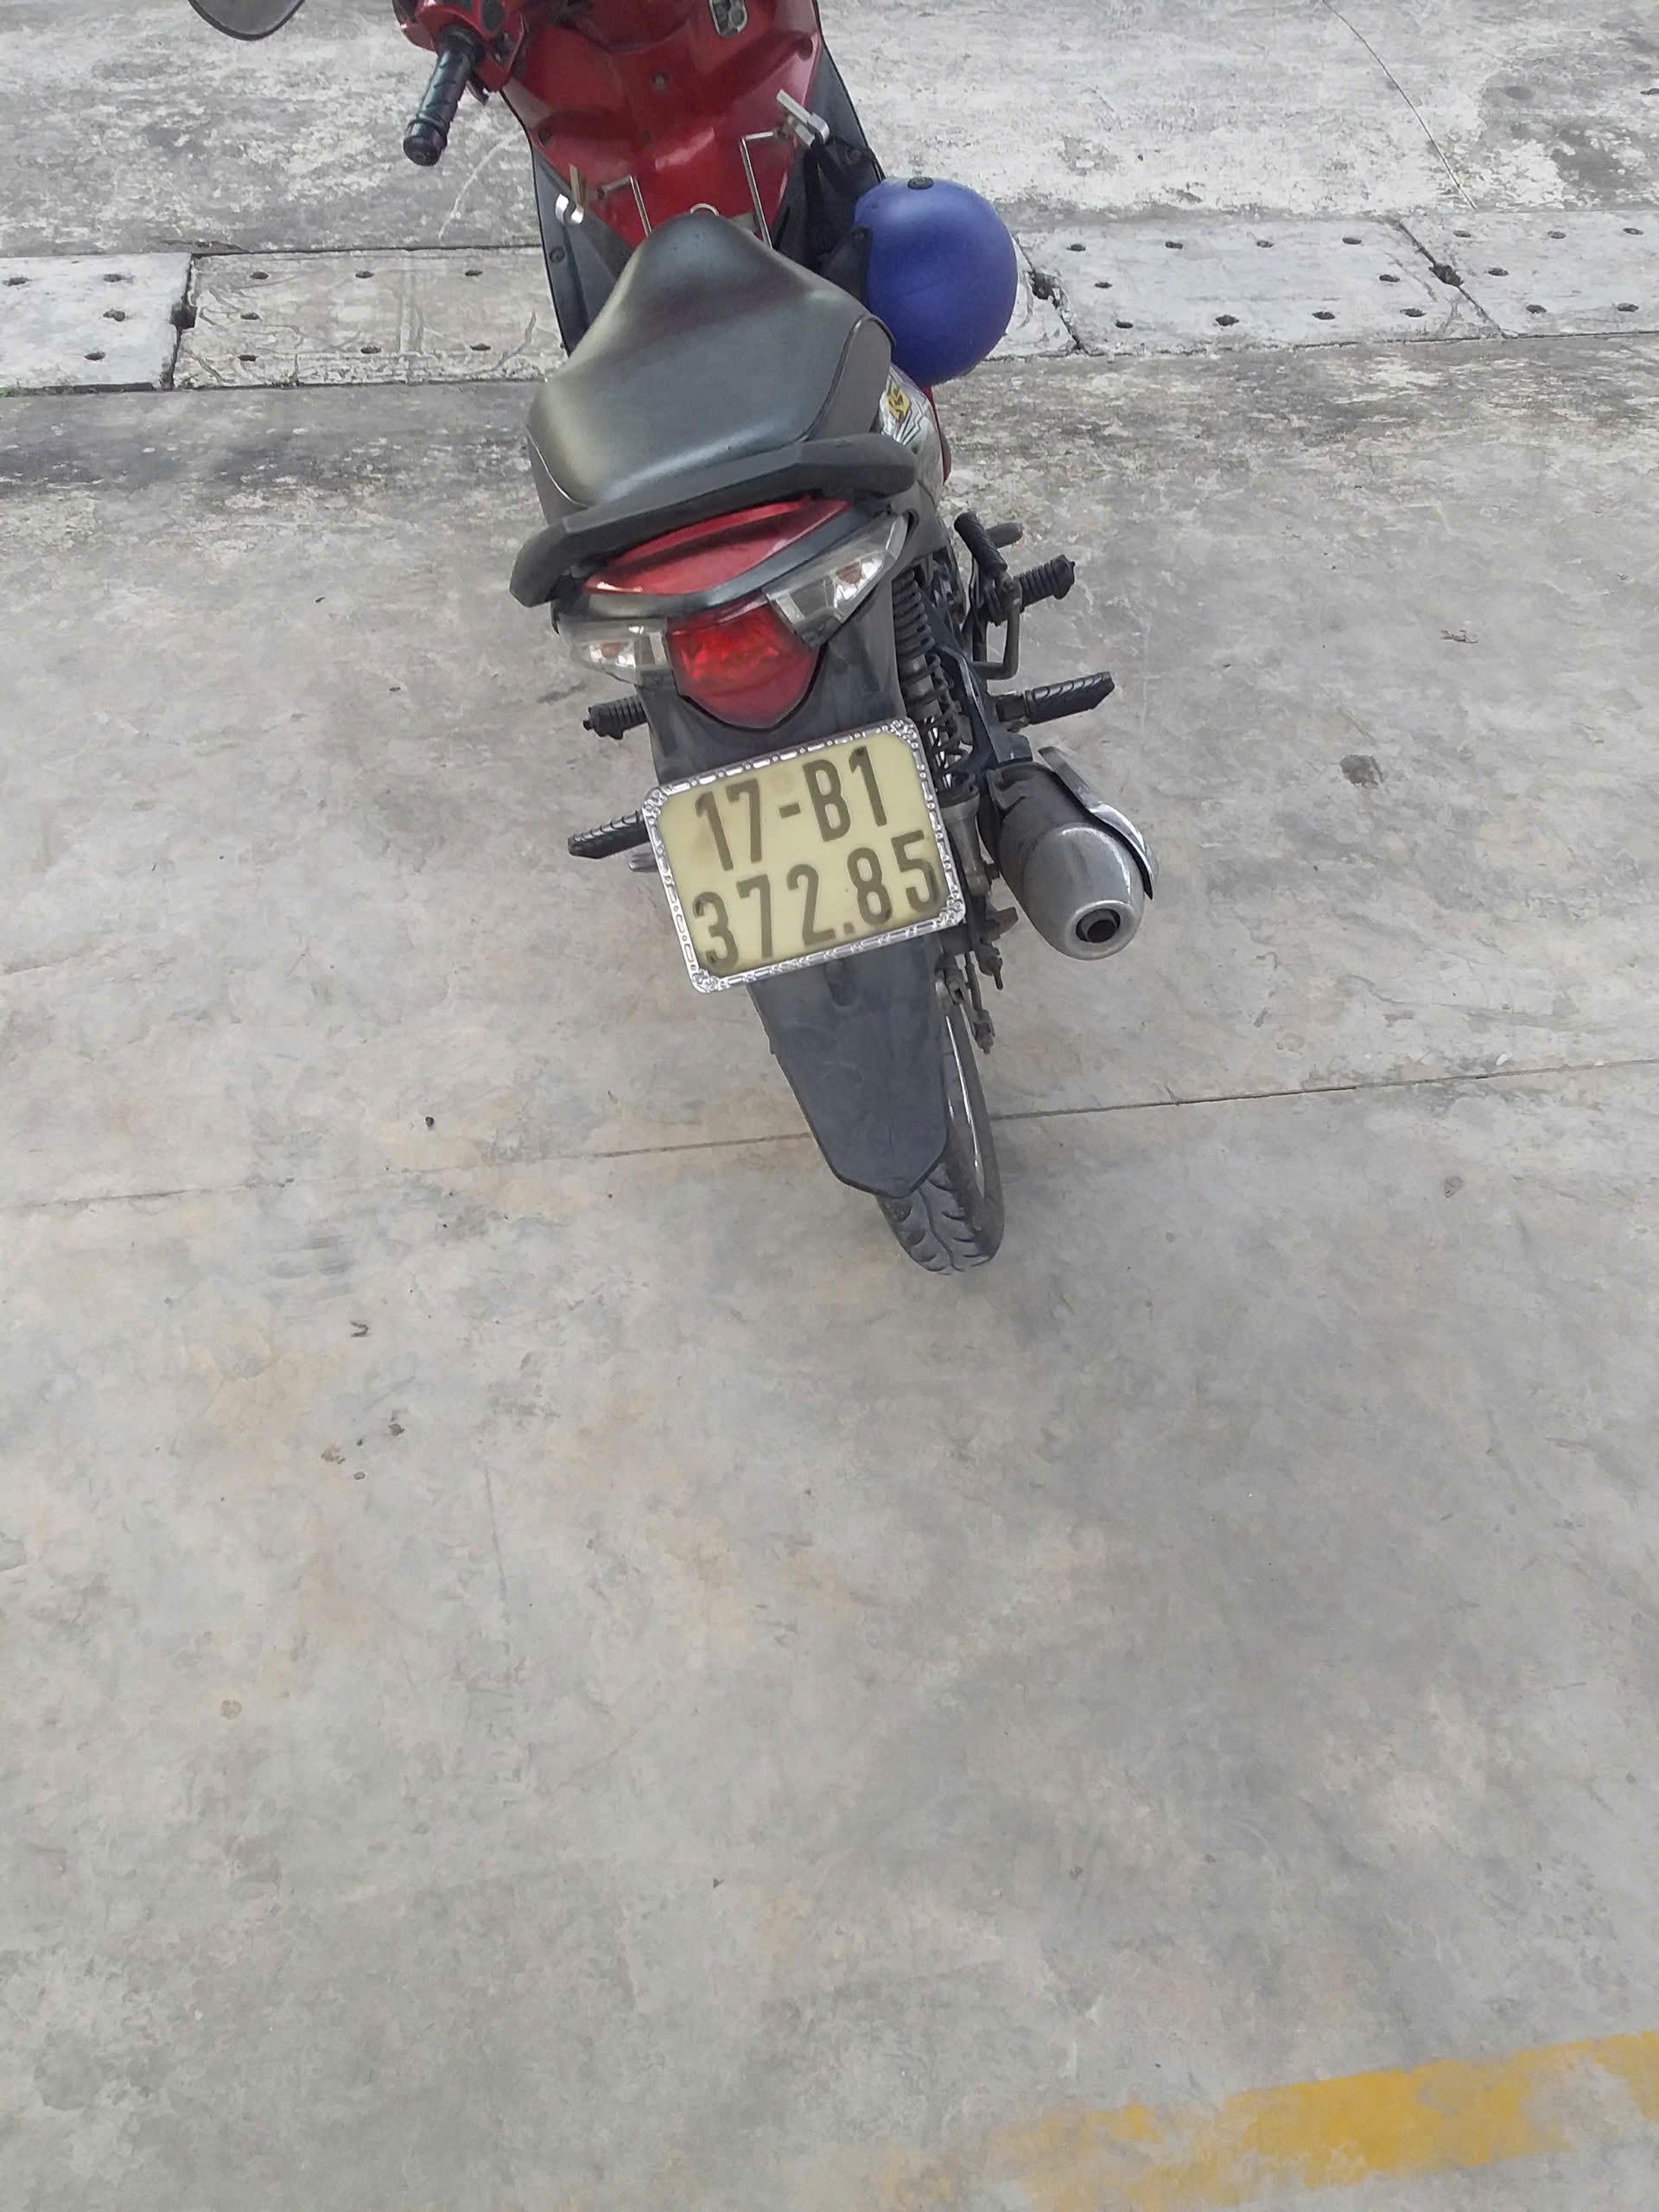bien_so: (650, 727, 961, 982)
